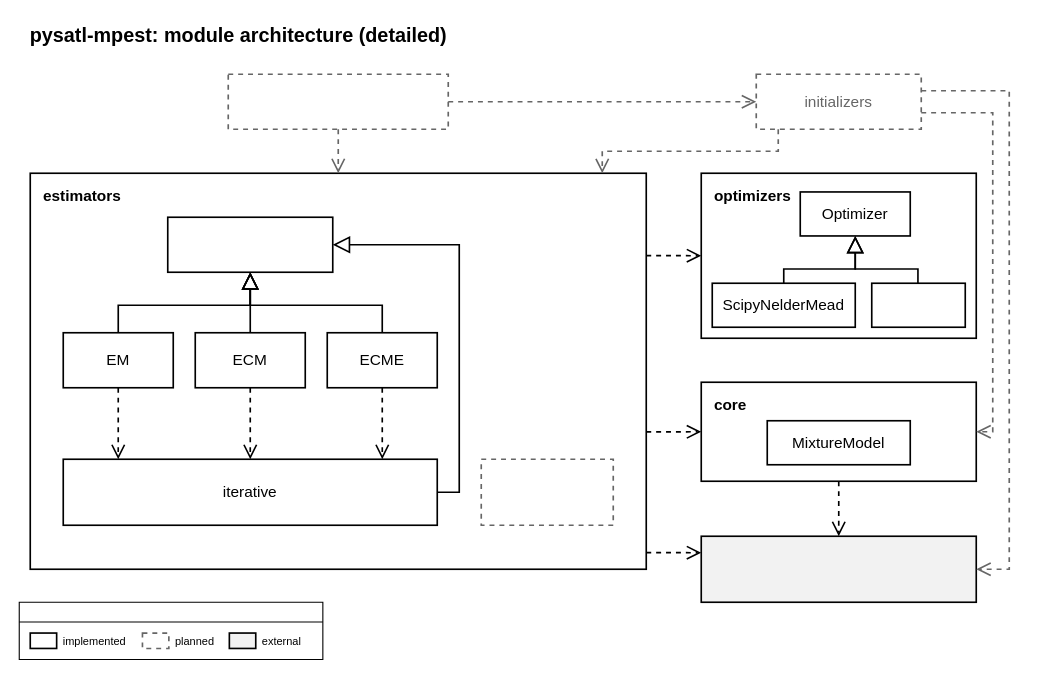
Image size: 1043x679. Some labels were removed from this diagram. The box of each missing label's shape, as (x1, y1, x2, y2) in pixels:
BaseEstimator: (166, 216, 333, 273)
direct: (480, 458, 614, 526)
Legend: (18, 601, 323, 659)
pysatl-core: (700, 535, 977, 603)
ScipyPowell: (870, 282, 966, 328)
structure_selection: (227, 73, 449, 130)
